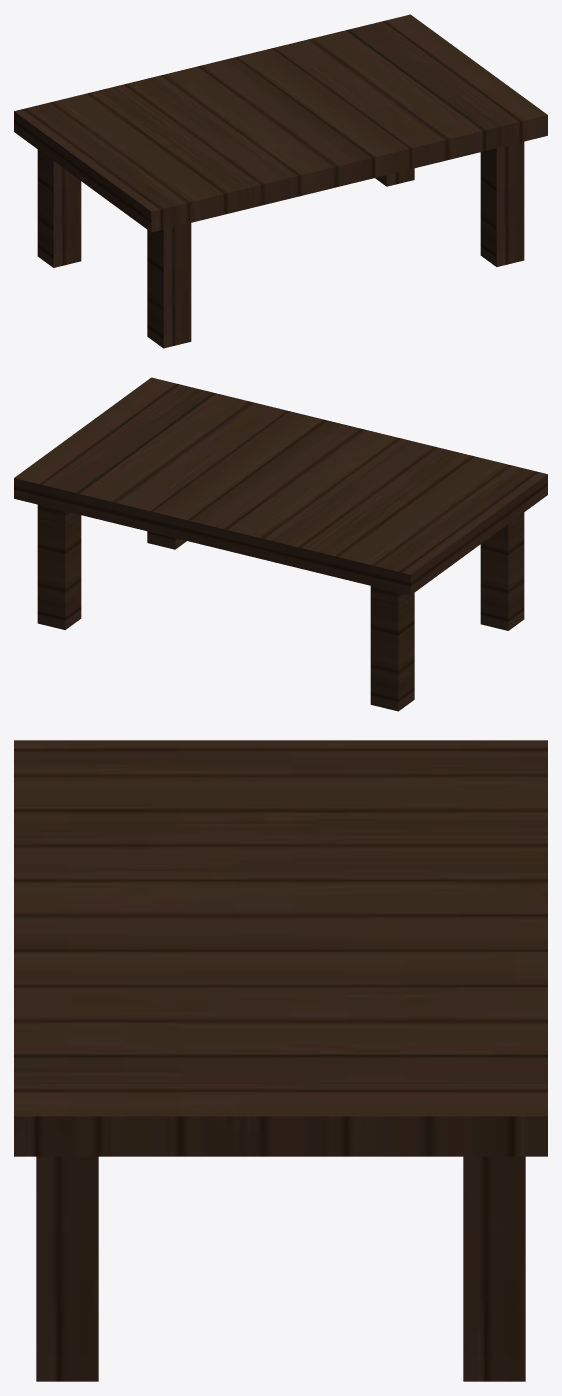
The model's file is low_table_01.glb.
3 renders of one model, top to bottom at view 1: azimuth 30°, elevation 25°; view 2: azimuth 150°, elevation 25°; view 3: azimuth 270°, elevation 25°, orthographic. The views are drawn at different scales.
Visible parts, largest first — view 1: low_table_01; view 2: low_table_01; view 3: low_table_01.
Part boxes in pixels (x1,y1,x2,y2): low_table_01: [14, 14, 547, 348]; low_table_01: [14, 377, 547, 711]; low_table_01: [14, 740, 547, 1381].
Bounding box in the file's own units: 1 × 0.35 × 0.6001.
Materials: 1 (1 with a texture image).
